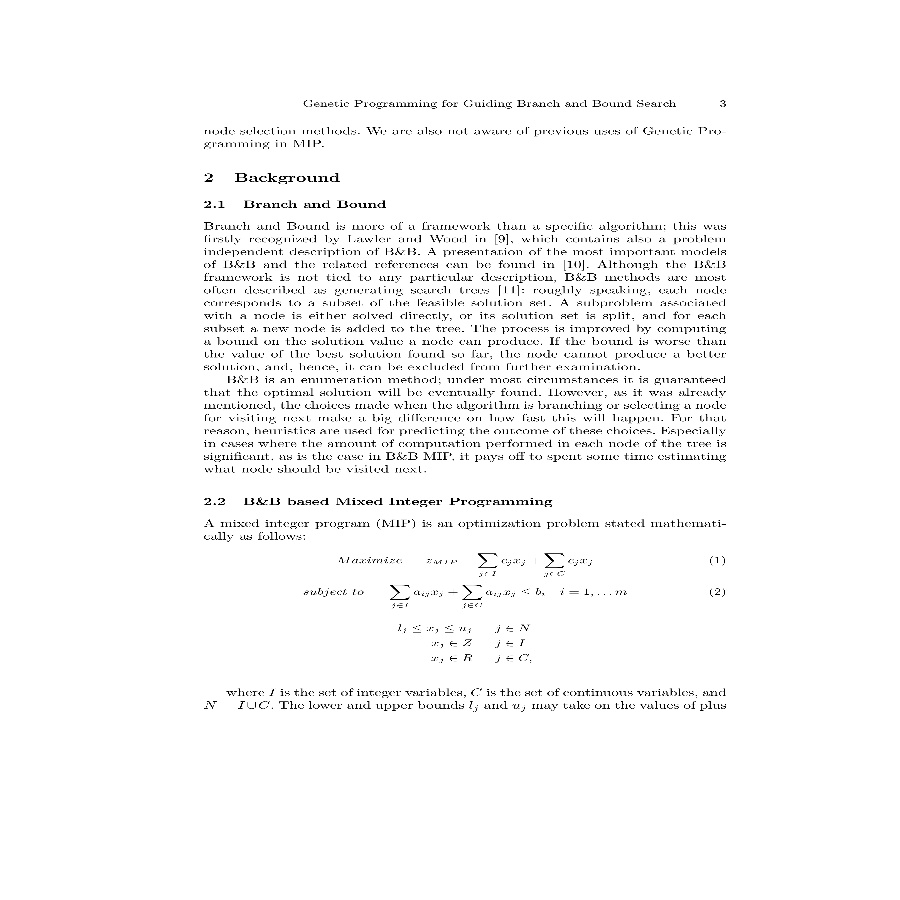eq: (298, 552, 645, 667)
